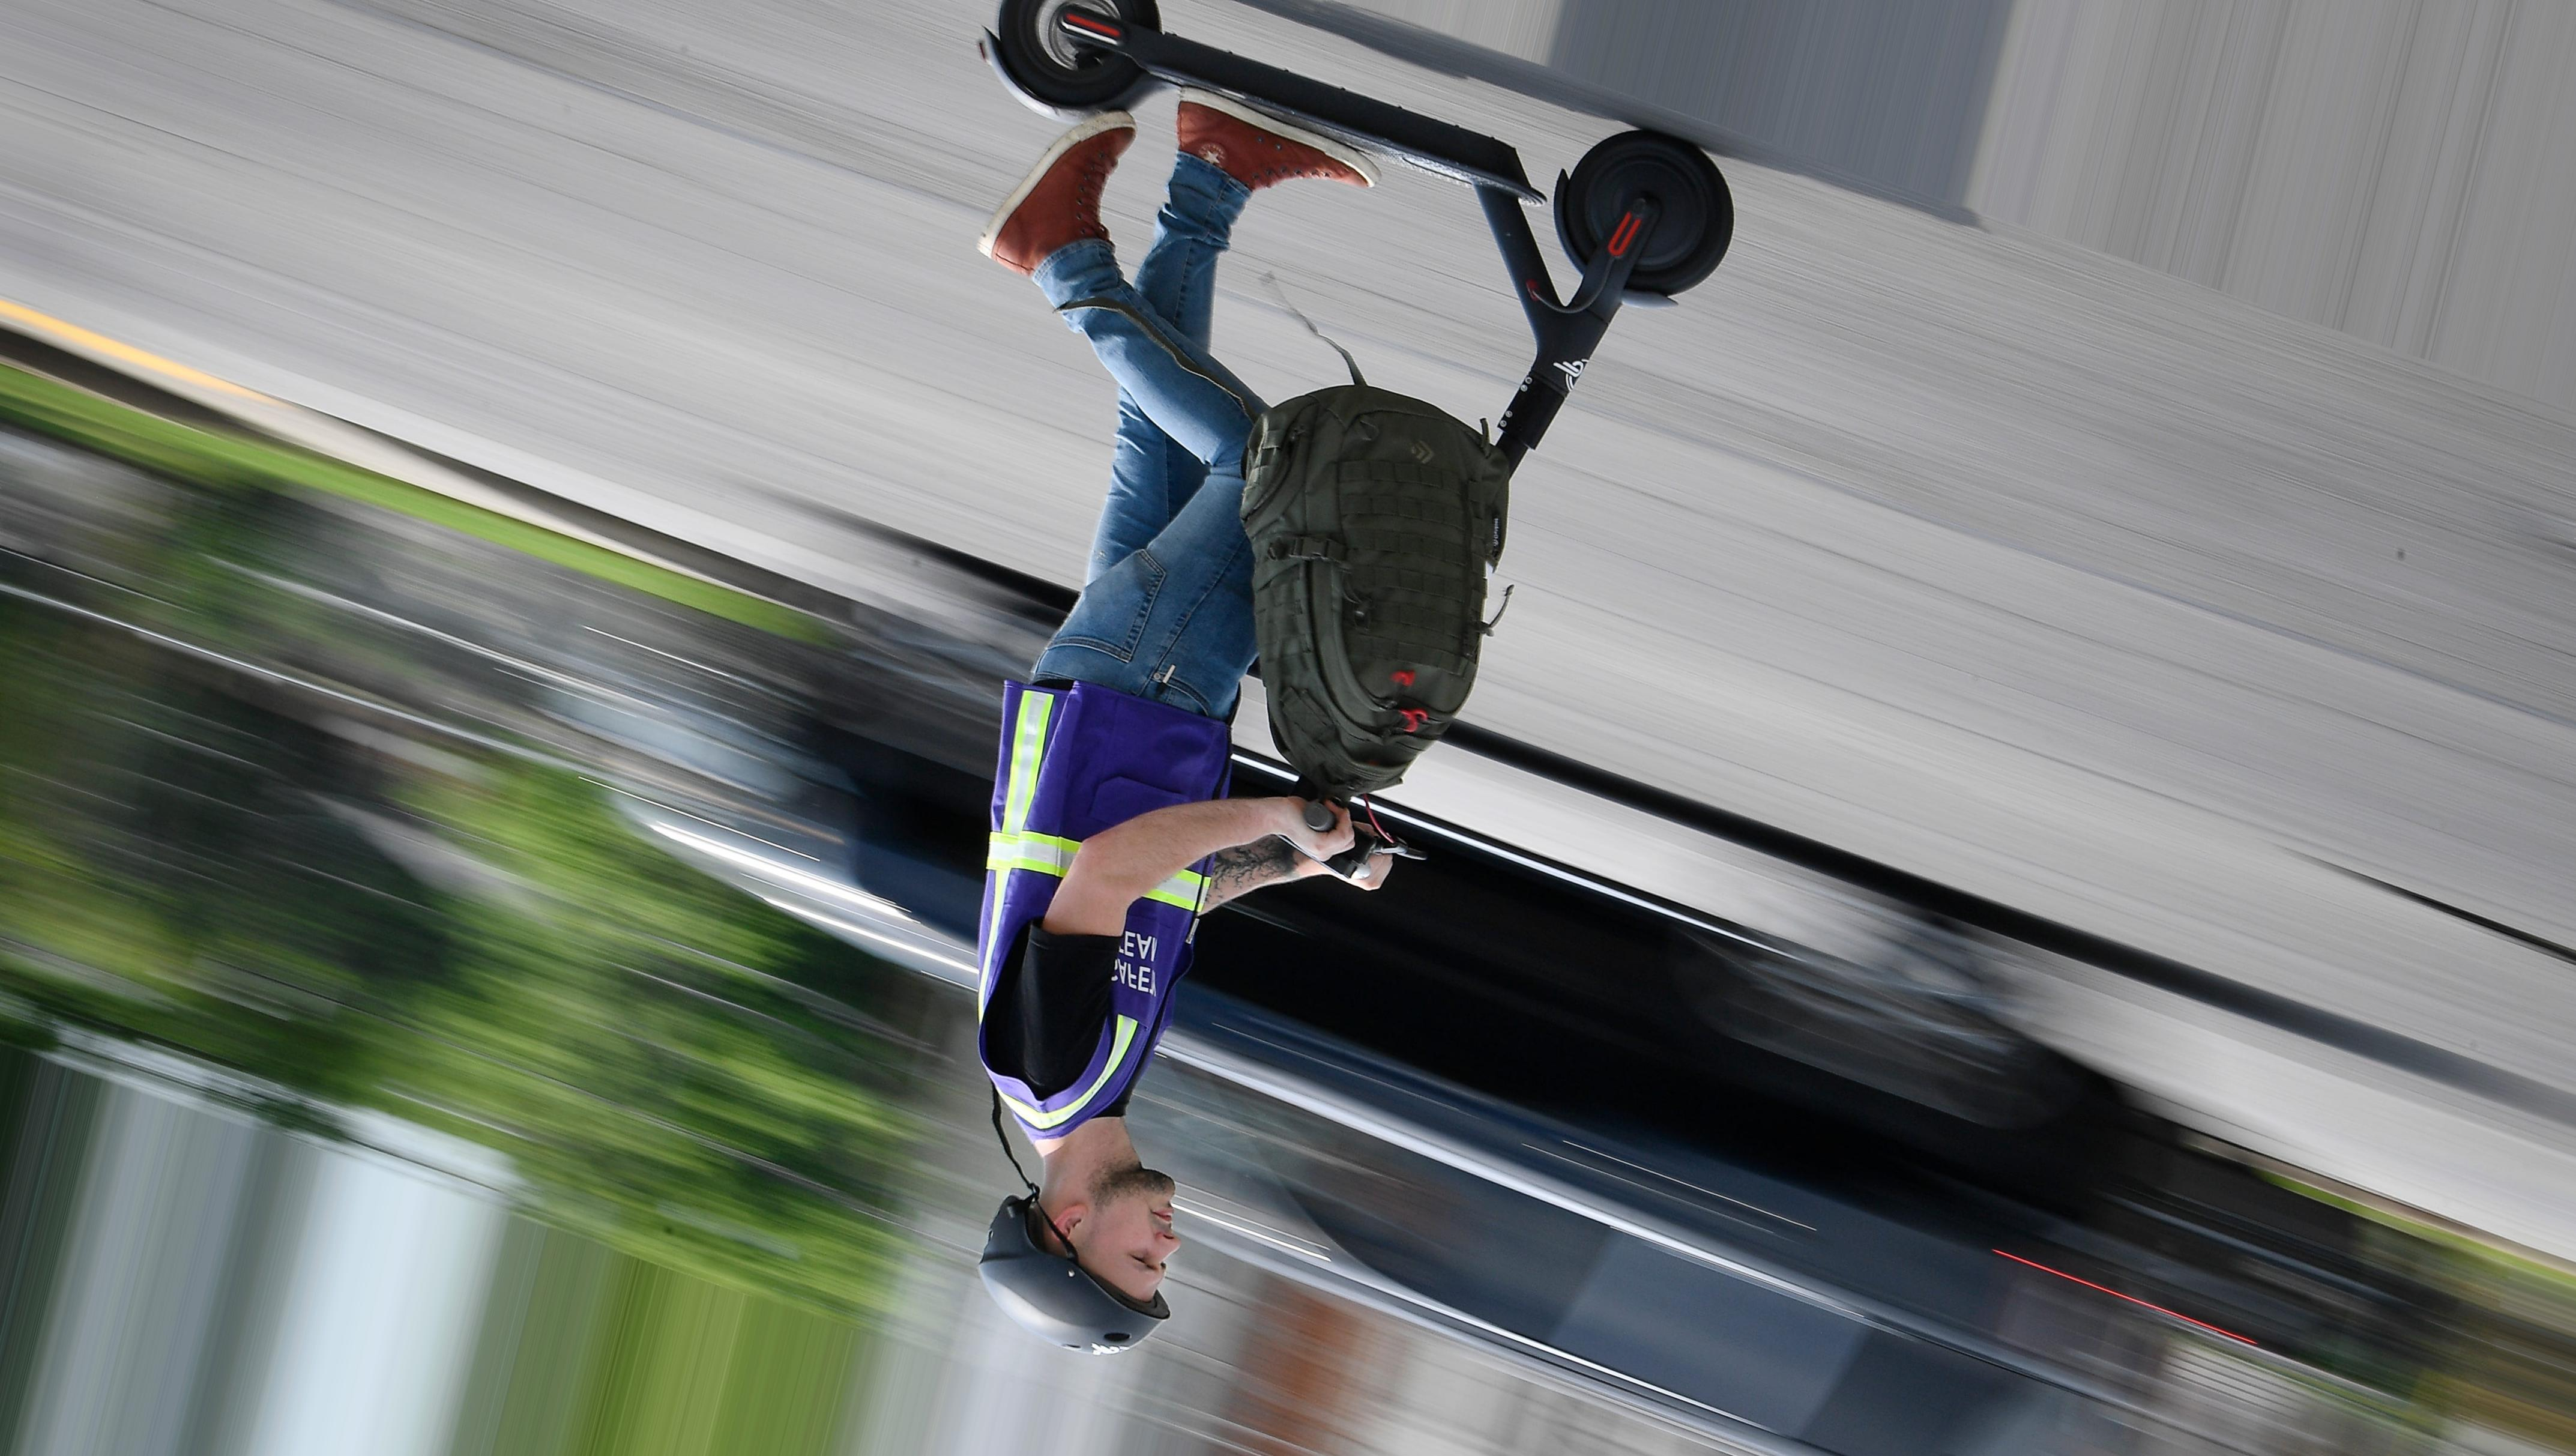scooter: (975, 0, 1732, 885)
with helmet: (973, 1157, 1191, 1362)
